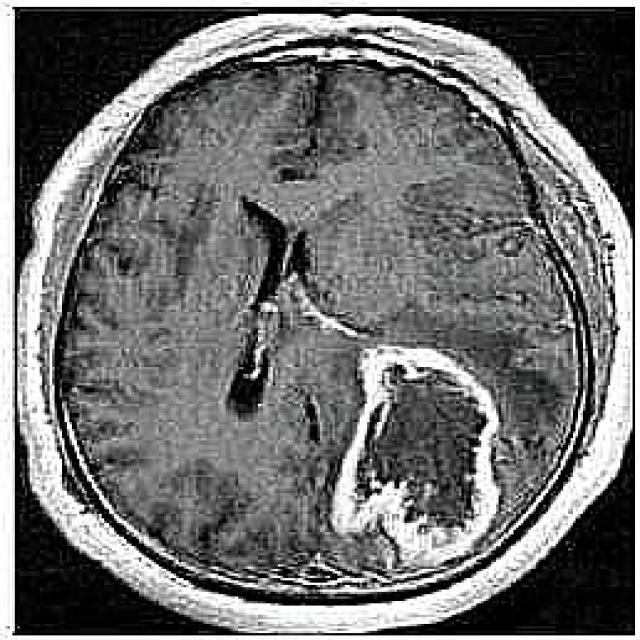Tumor-Cell: (319, 335, 501, 546)
